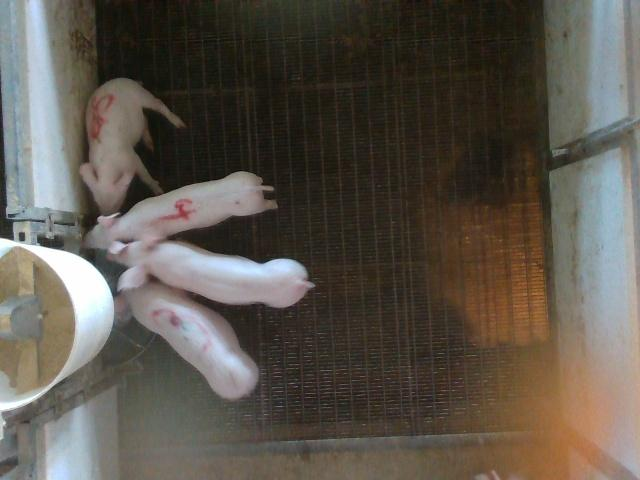pig-3: (124, 281, 259, 399)
pig-4: (85, 171, 276, 248)
pig-5: (80, 78, 185, 214)
